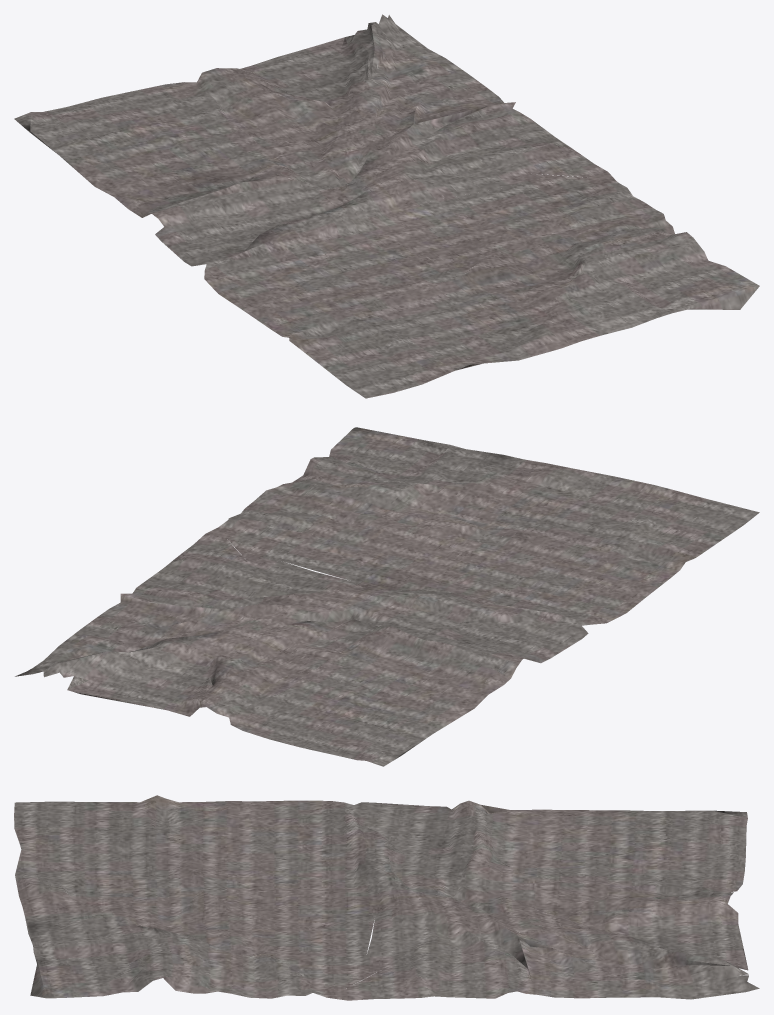
Rendered from Carpet0015.obj.
3 renders of one model, top to bottom at view 1: azimuth 30°, elevation 25°; view 2: azimuth 150°, elevation 25°; view 3: azimuth 270°, elevation 25°, orthographic. The views are drawn at different scales.
Size of the model in its own units: 1.96 by 0.129 by 3.1.
1 material, 1 textured.
